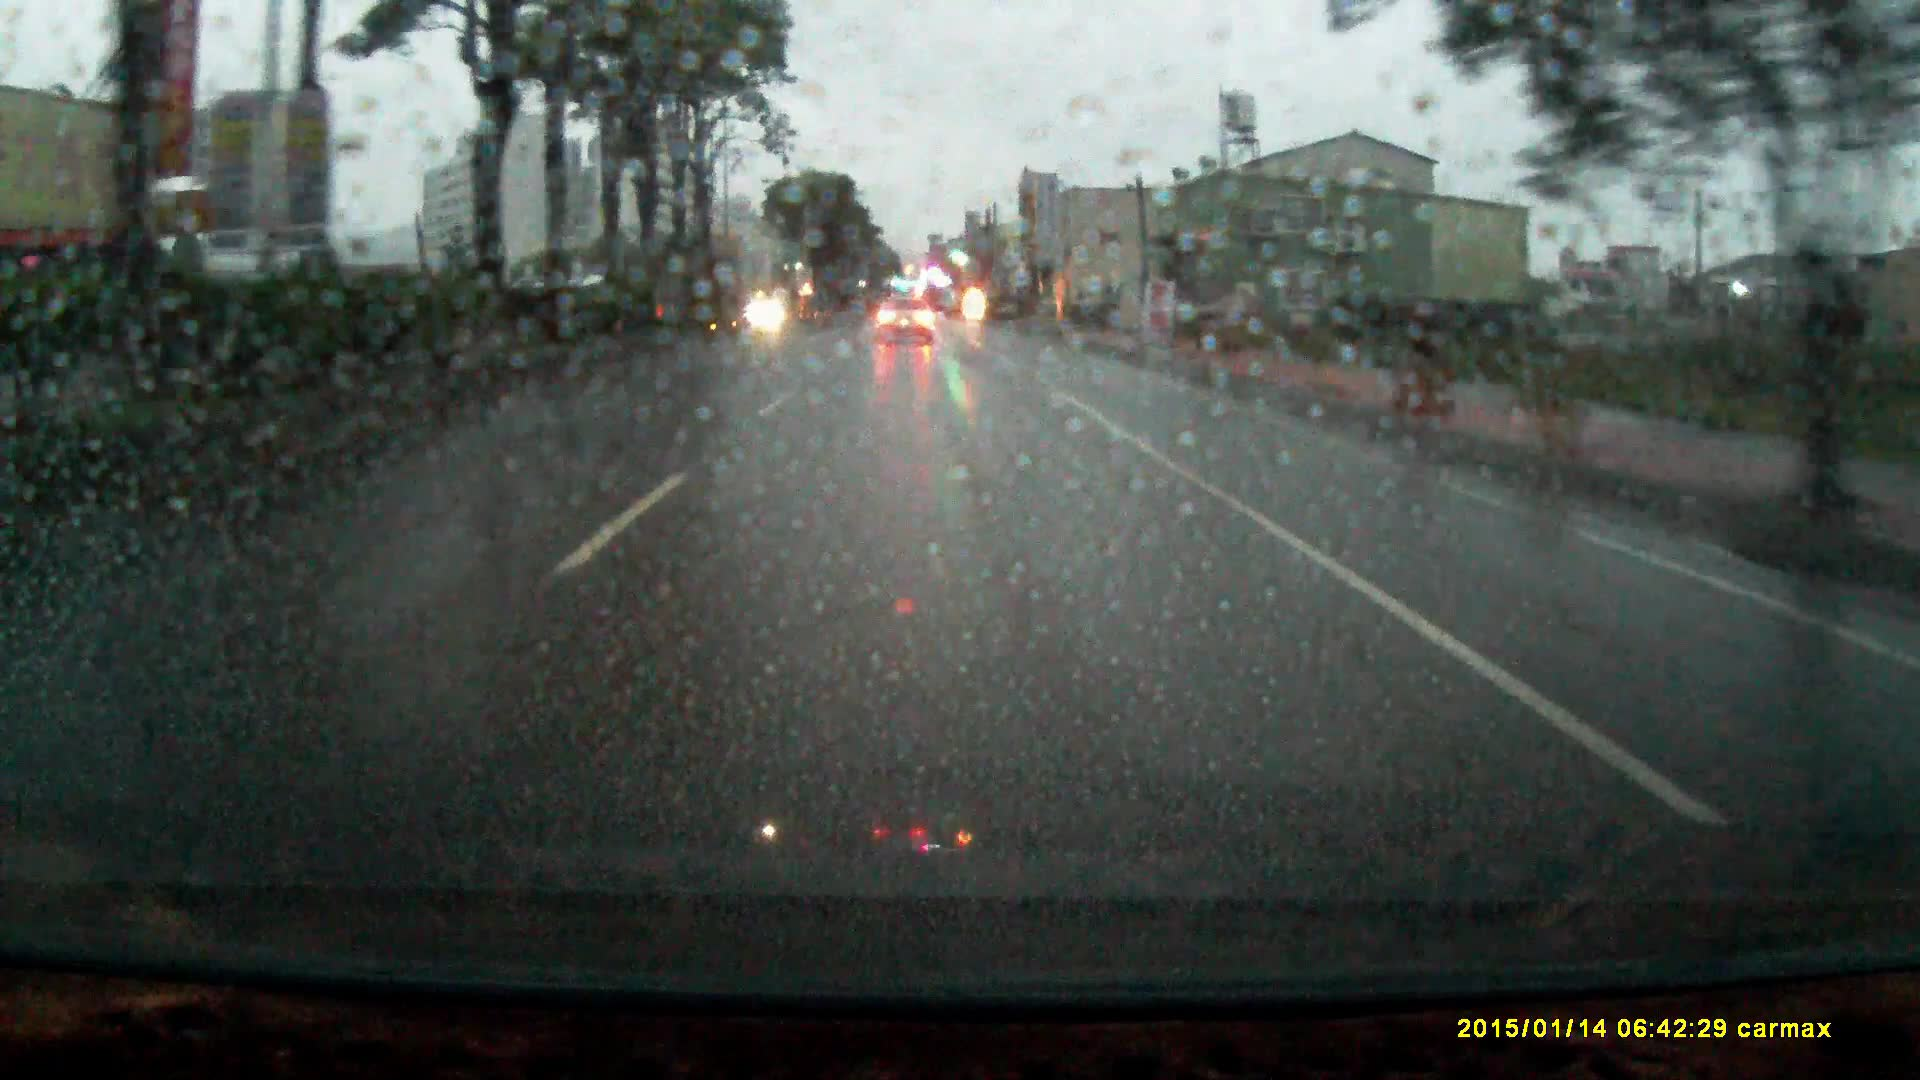vehicle: (876, 295, 935, 347)
